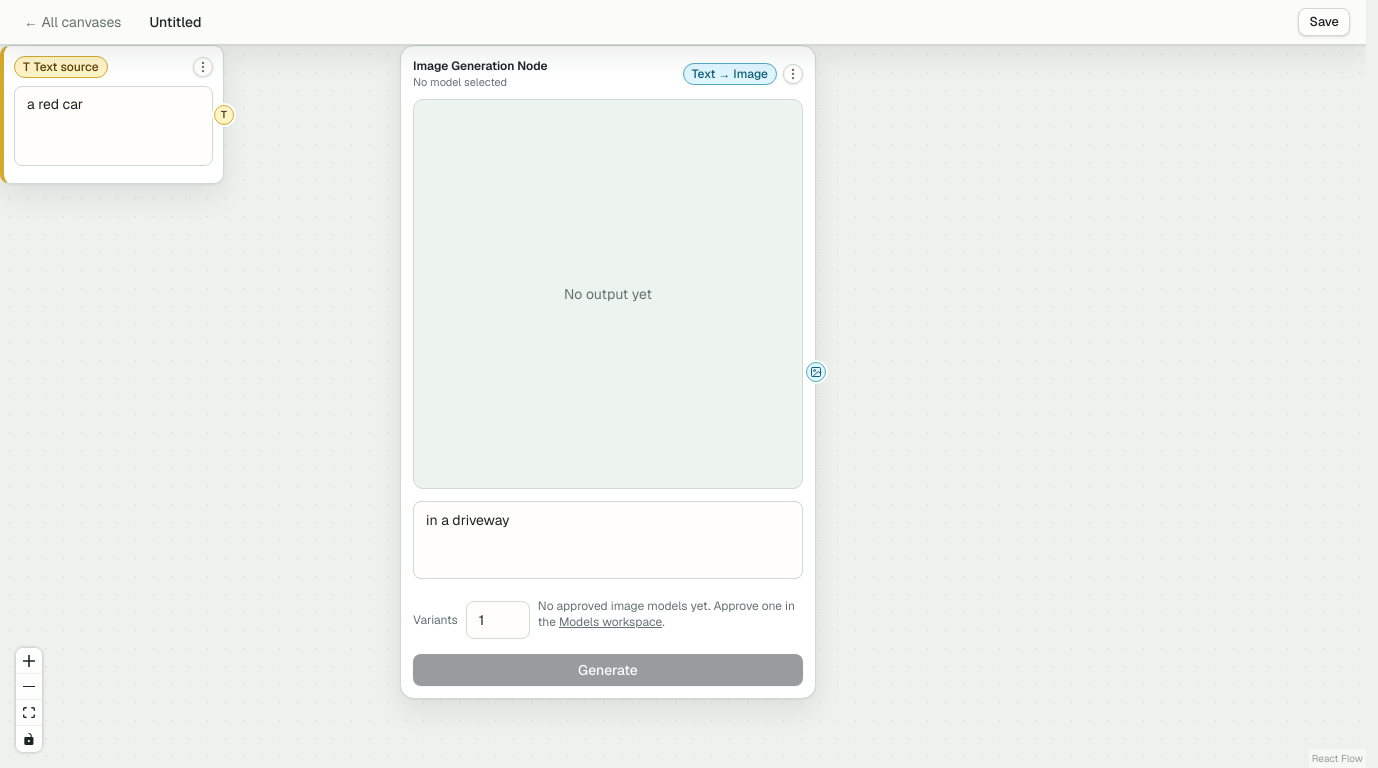
CanvasEditor connection validation › allows connecting a Static Text Reference into an Image Generation Node's text handle
Expected: the text box showing "in a driveway" below "No output yet" is shown, x1=413 y1=500 x2=803 y2=578
Click the element with class "react-flow__node" that starts with "Image Generation Node" at (608, 372), box x1=400 y1=45 x2=816 y2=698
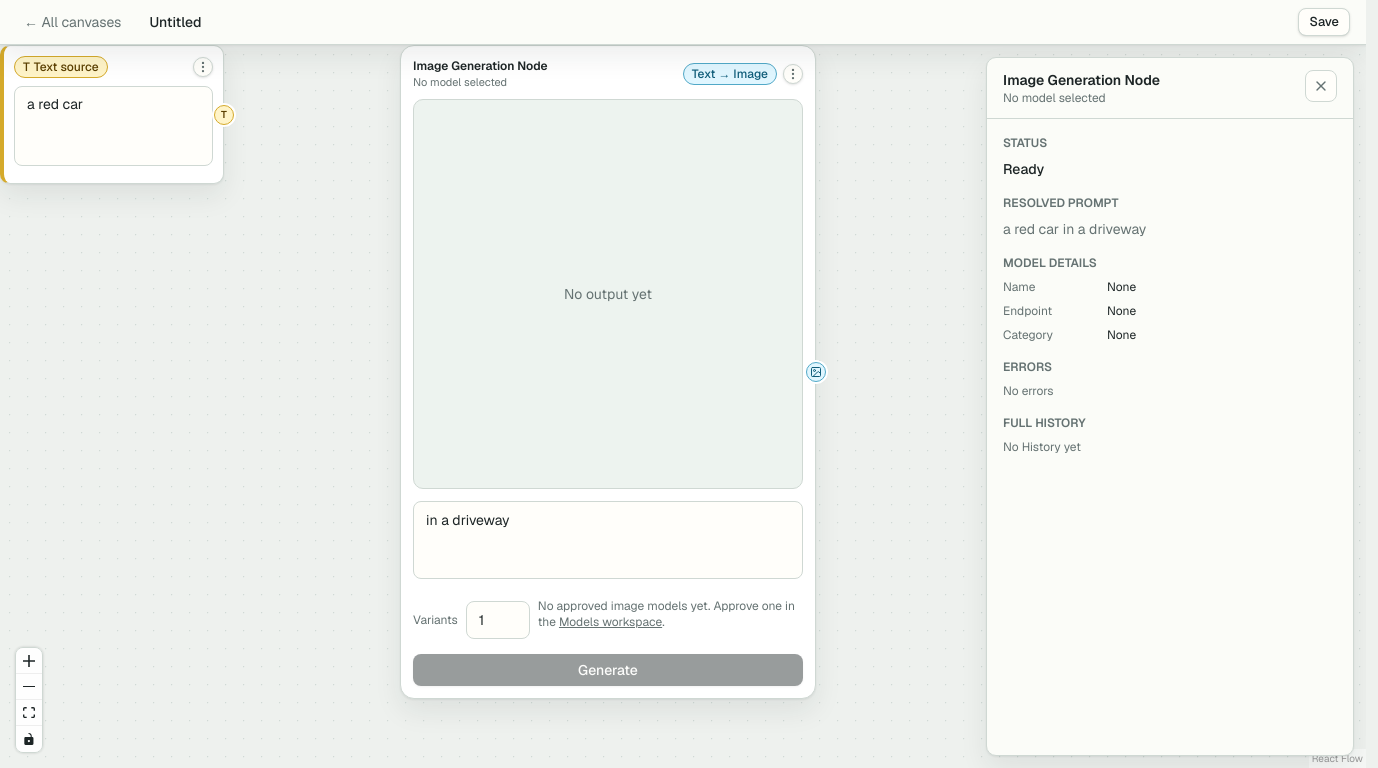
Now the text "a red car in a driveway" is shown, box x1=1003 y1=220 x2=1146 y2=238
